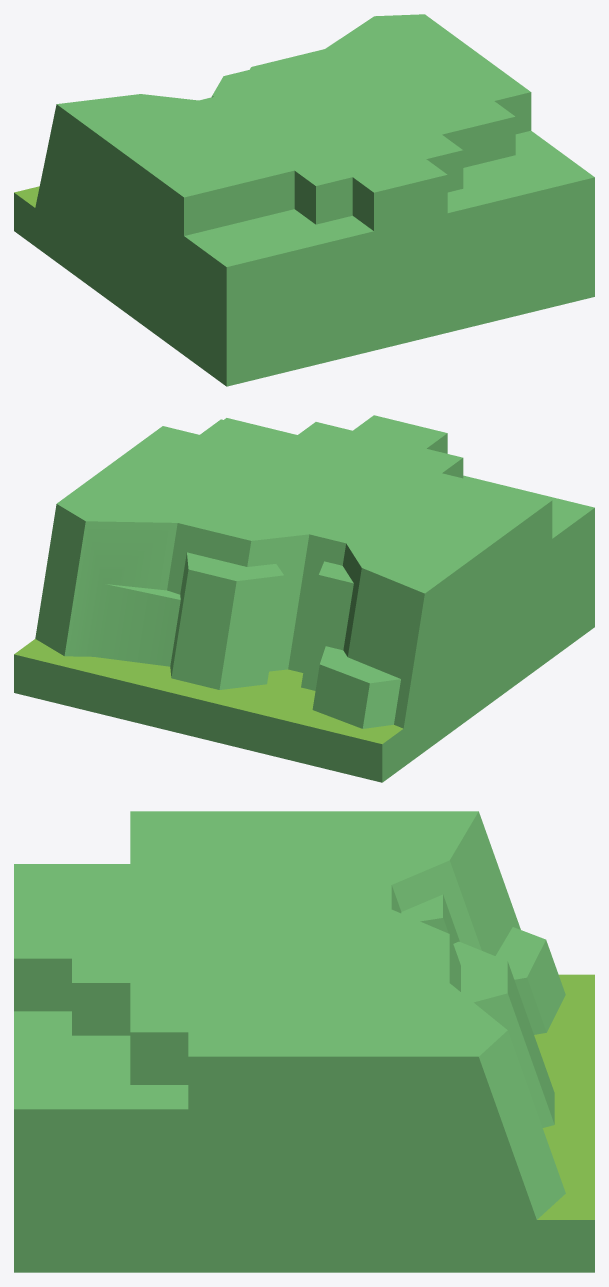
The model's file is x_zem_1_3_1_rmstrd.fbx.
3 views of the same model, one above another, from view 1: azimuth 30°, elevation 25°; view 2: azimuth 150°, elevation 25°; view 3: azimuth 270°, elevation 25° (orthographic). The views are drawn at different scales.
Parts seen in each view (by area): view 1: x_zem_1_3_1_rmstrd1; view 2: x_zem_1_3_1_rmstrd1; view 3: x_zem_1_3_1_rmstrd1.
Part boxes in pixels (x1=…): x_zem_1_3_1_rmstrd1: x1=14, y1=14, x2=594, y2=386; x_zem_1_3_1_rmstrd1: x1=14, y1=415, x2=594, y2=782; x_zem_1_3_1_rmstrd1: x1=14, y1=811, x2=594, y2=1272.
Size of the model in its own units: 10 by 4.1 by 10.
